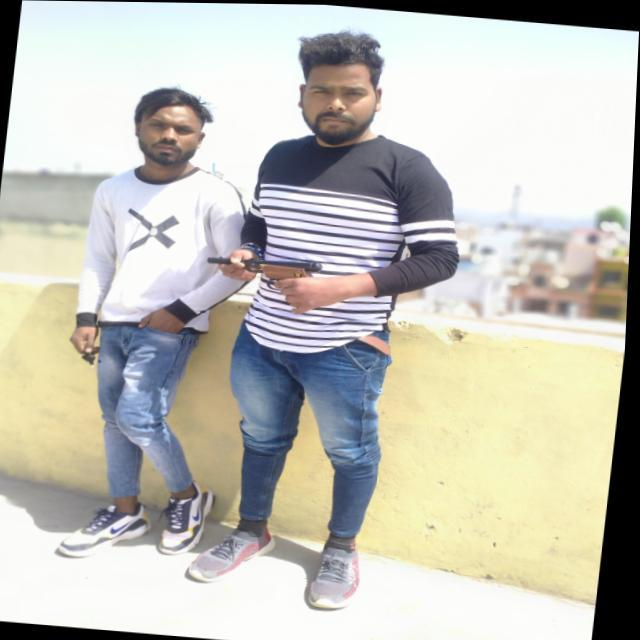weapon: (202, 248, 333, 313)
